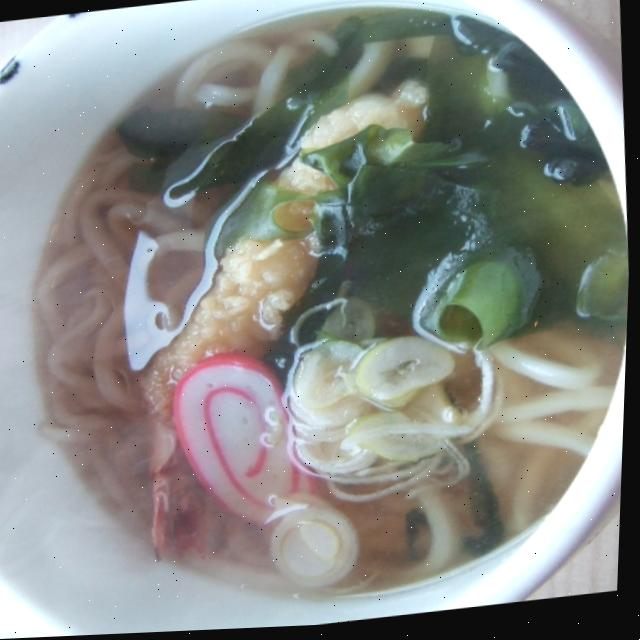面条主食: (0, 0, 640, 501)
